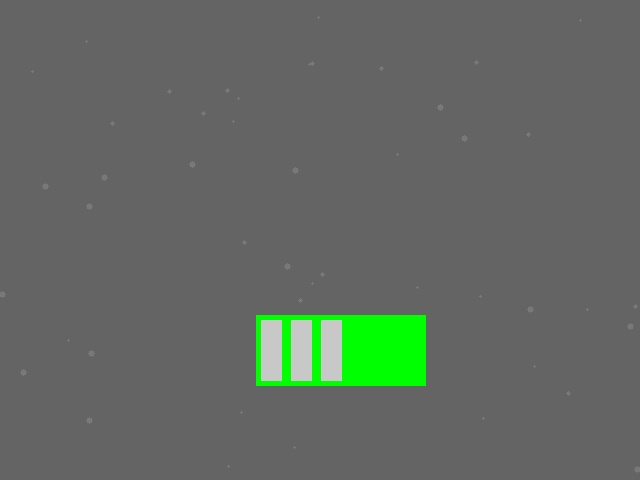bus: (256, 315, 425, 385)
